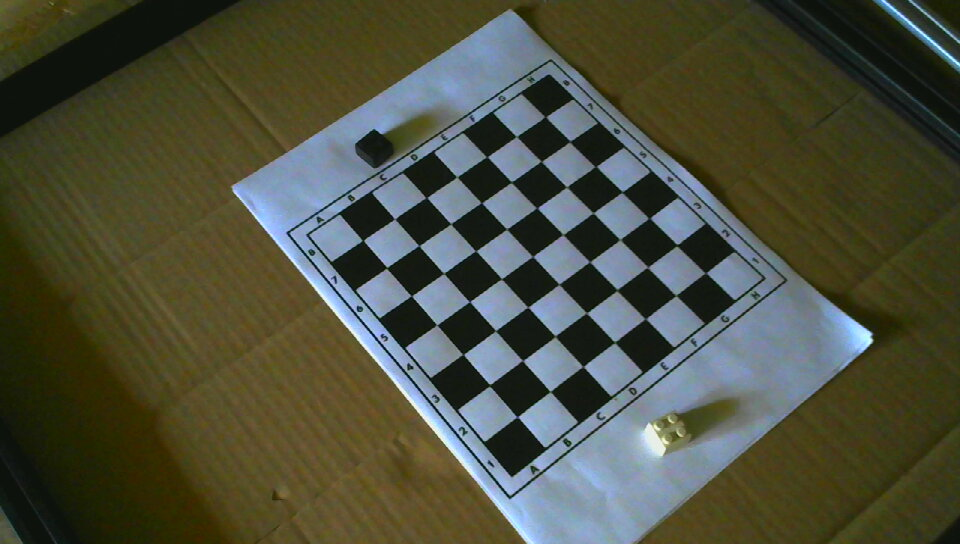bp: (355, 128, 393, 168)
wp: (646, 411, 693, 456)
